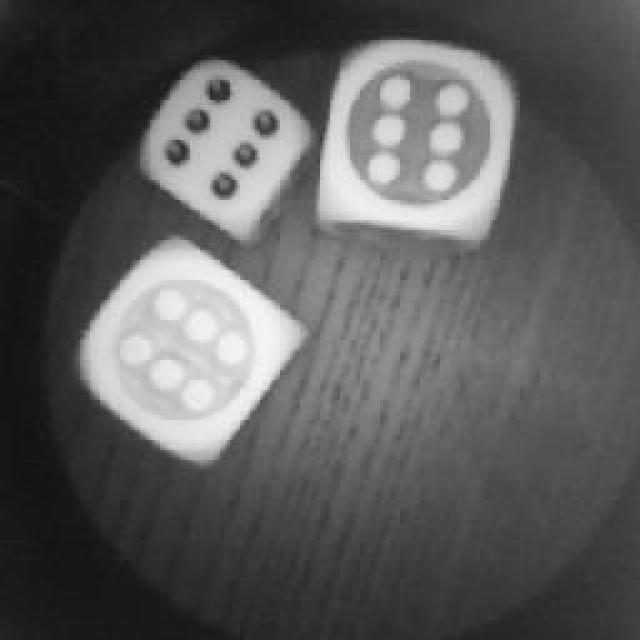dice_6: (70, 235, 308, 473), (312, 28, 522, 248), (138, 60, 318, 230)
